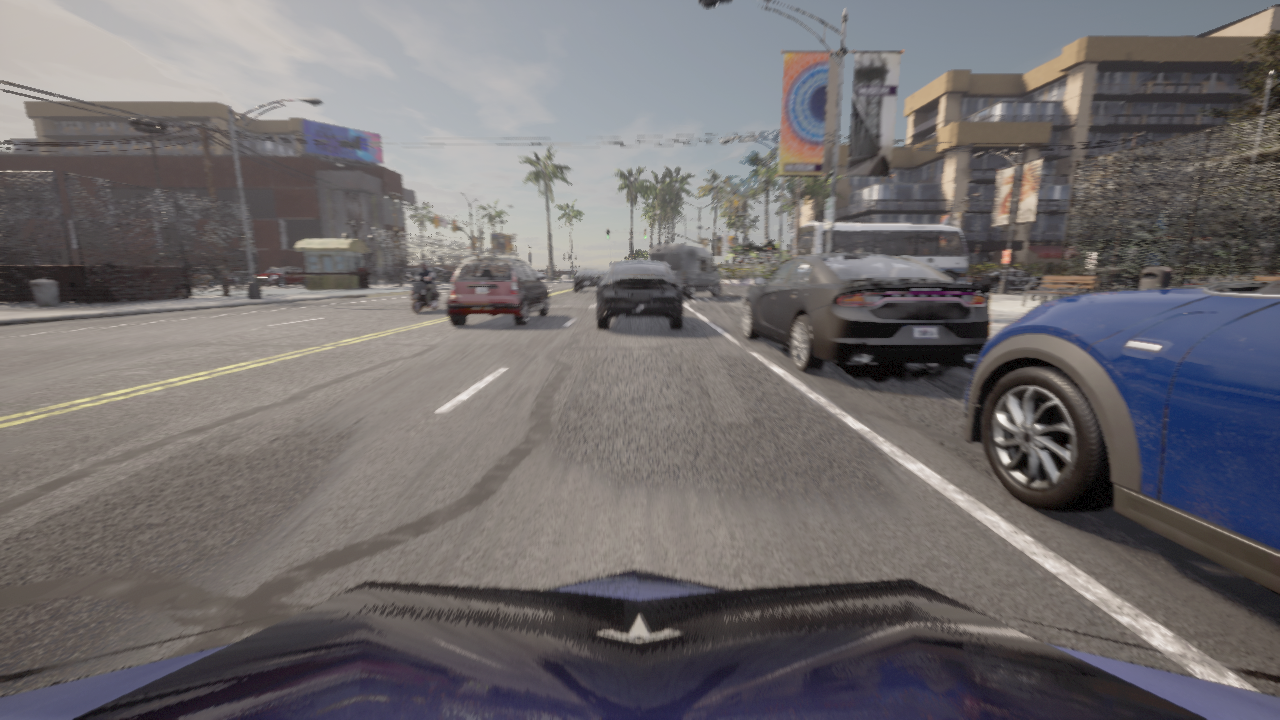cyclist: (0, 569, 1279, 719), (963, 278, 1279, 593), (743, 248, 990, 371), (799, 222, 979, 282), (446, 257, 549, 325), (597, 260, 682, 328), (648, 244, 720, 299), (966, 267, 1053, 292), (407, 273, 439, 313), (254, 267, 305, 287), (403, 266, 453, 281), (574, 268, 604, 291), (192, 270, 215, 286), (228, 271, 255, 283), (208, 271, 220, 282)
